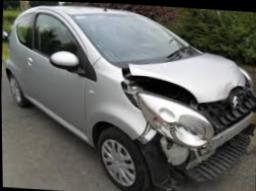Bonnet: (122, 51, 255, 133)
Bumper: (144, 111, 256, 188)
Light: (125, 82, 212, 145)
